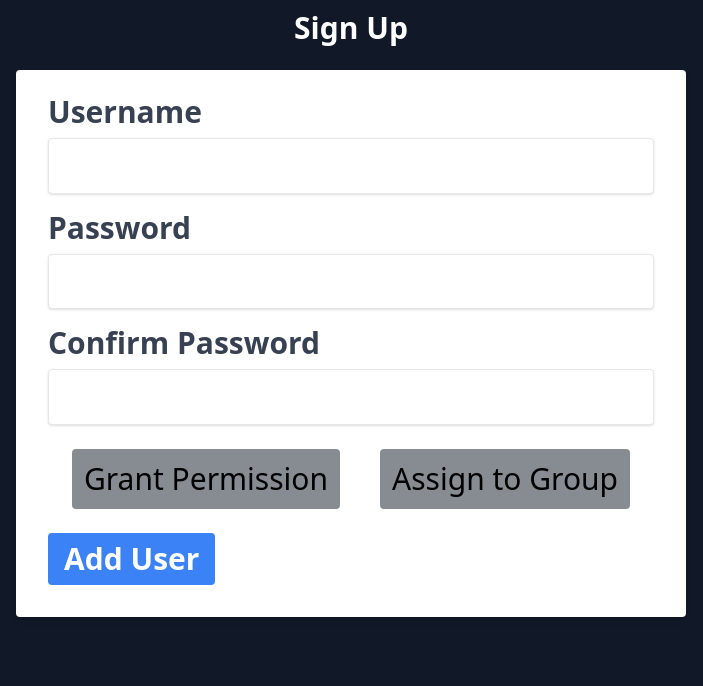
Test case: AddUser Component Suite › shows error message on failed submission
// Fill out form
In the field labelled "Username": (351, 166) [48,138,654,194], type "TestUser"
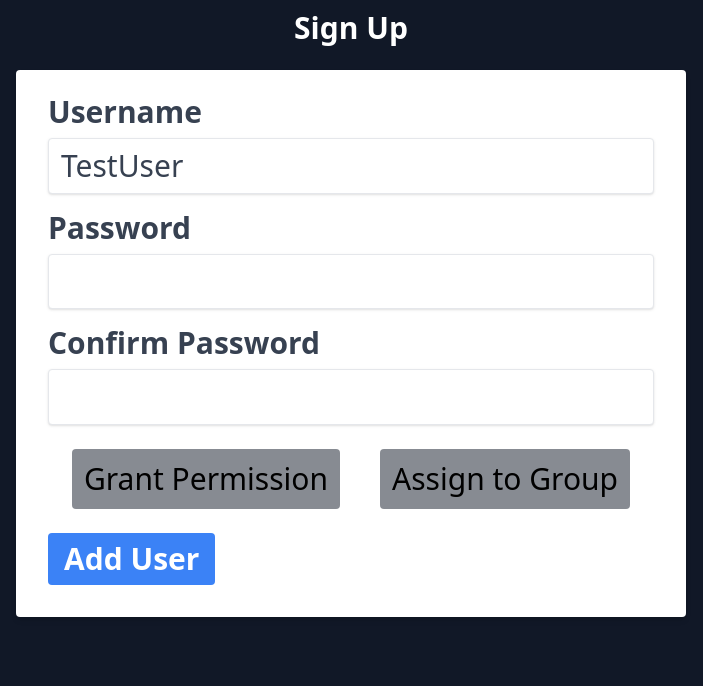
In the password field labelled "Password": (351, 281) [48,254,654,309], type "TestPassword"
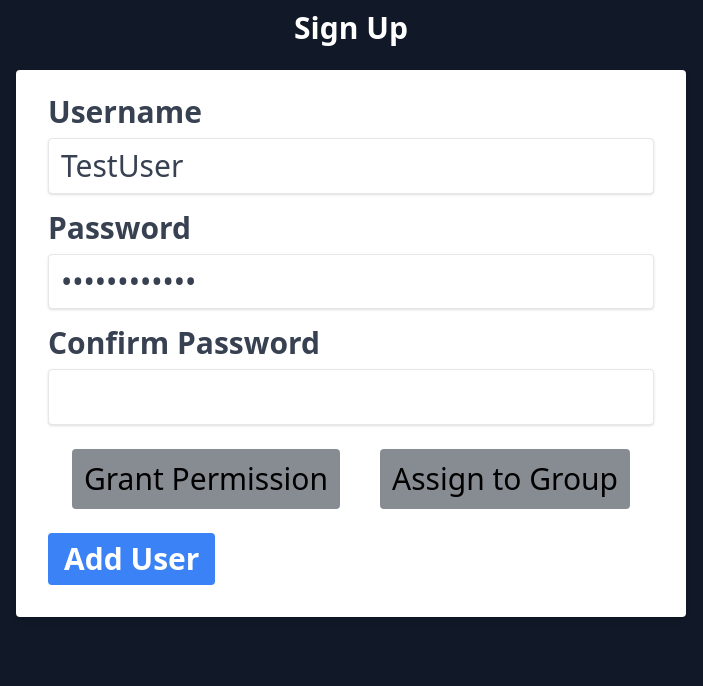
In the password field labelled "Confirm Password": (351, 397) [48,369,654,424], type "TestPassword"
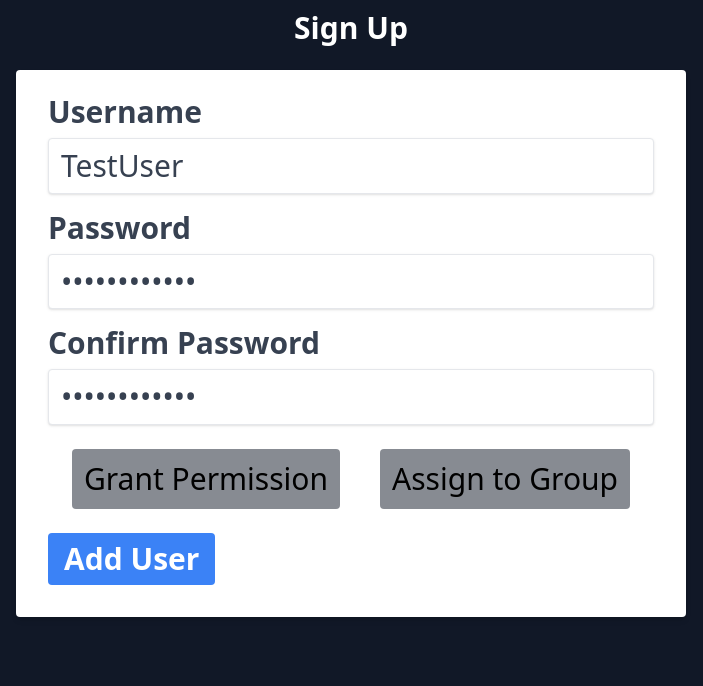
Click the button "Add User": click(132, 558) [48,532,215,584]
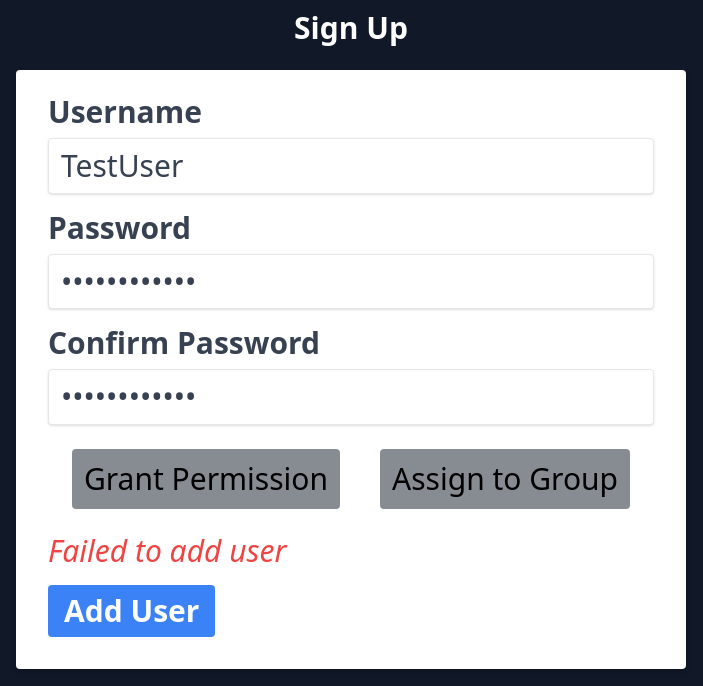
Now the text "Failed to add user" is shown, box [48,530,286,570]
